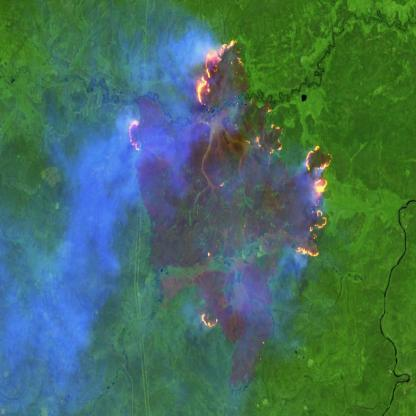fire: (126, 35, 336, 330)
